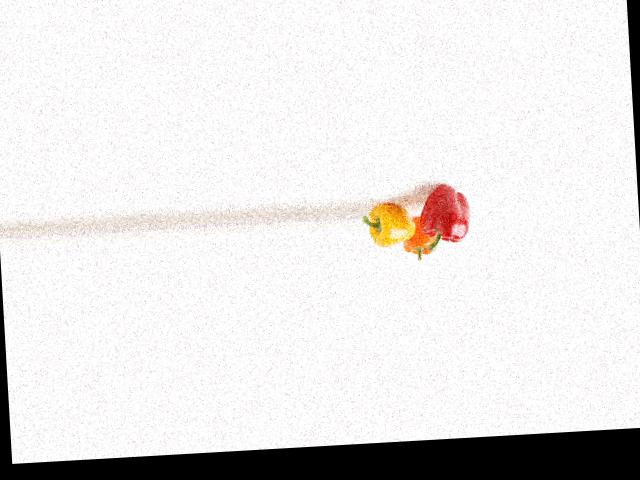bell_pepper: (415, 177, 473, 257)
